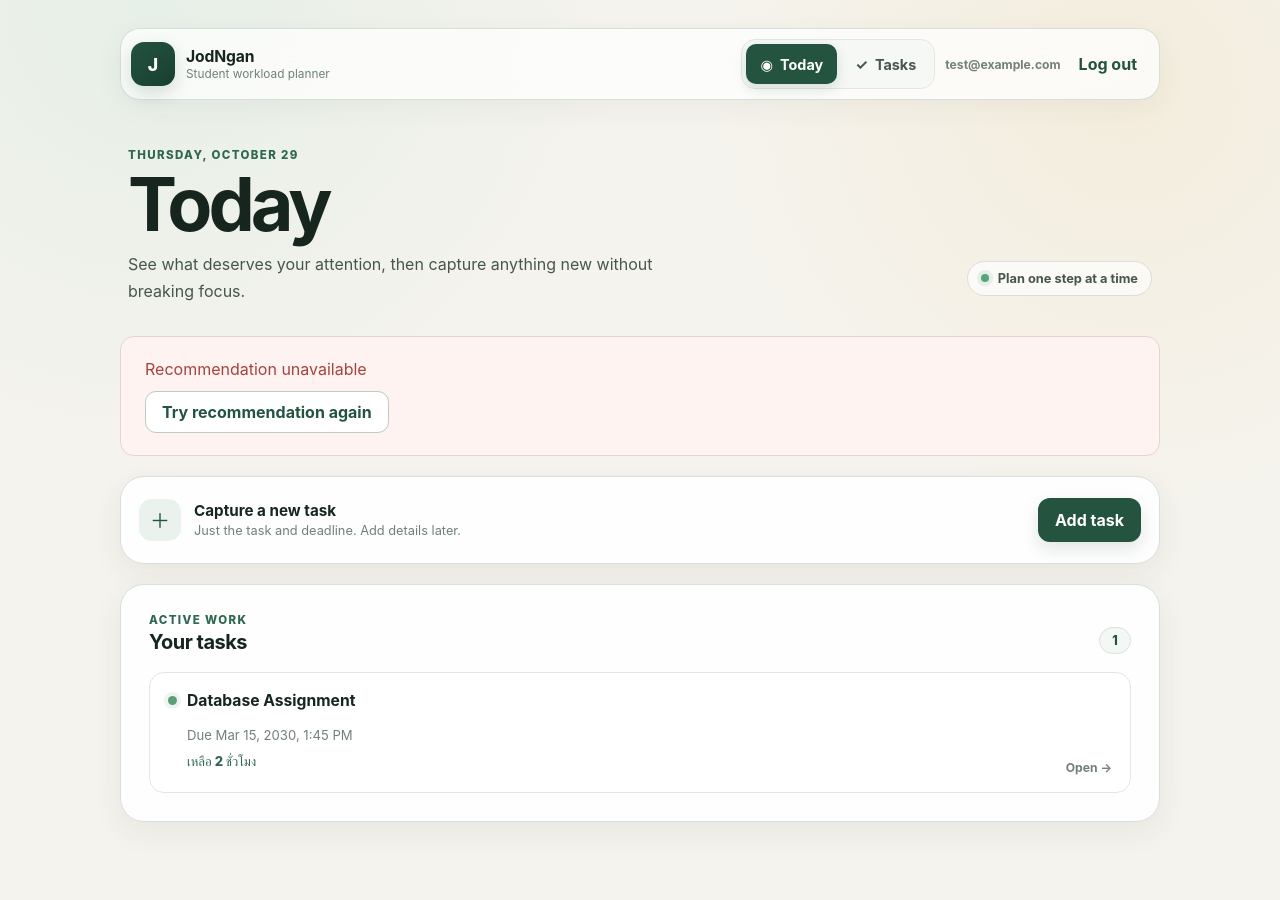
single-user Today flow › shows a recommendation error and recovers without blocking Quick Add
Expected: the text "Recommendation unavailable" is shown, [145, 359, 367, 379]
Expected: the button "Add task" is shown, [1038, 498, 1141, 542]
Click the button "Try recommendation again".
click(267, 412)  # box [145, 391, 389, 433]
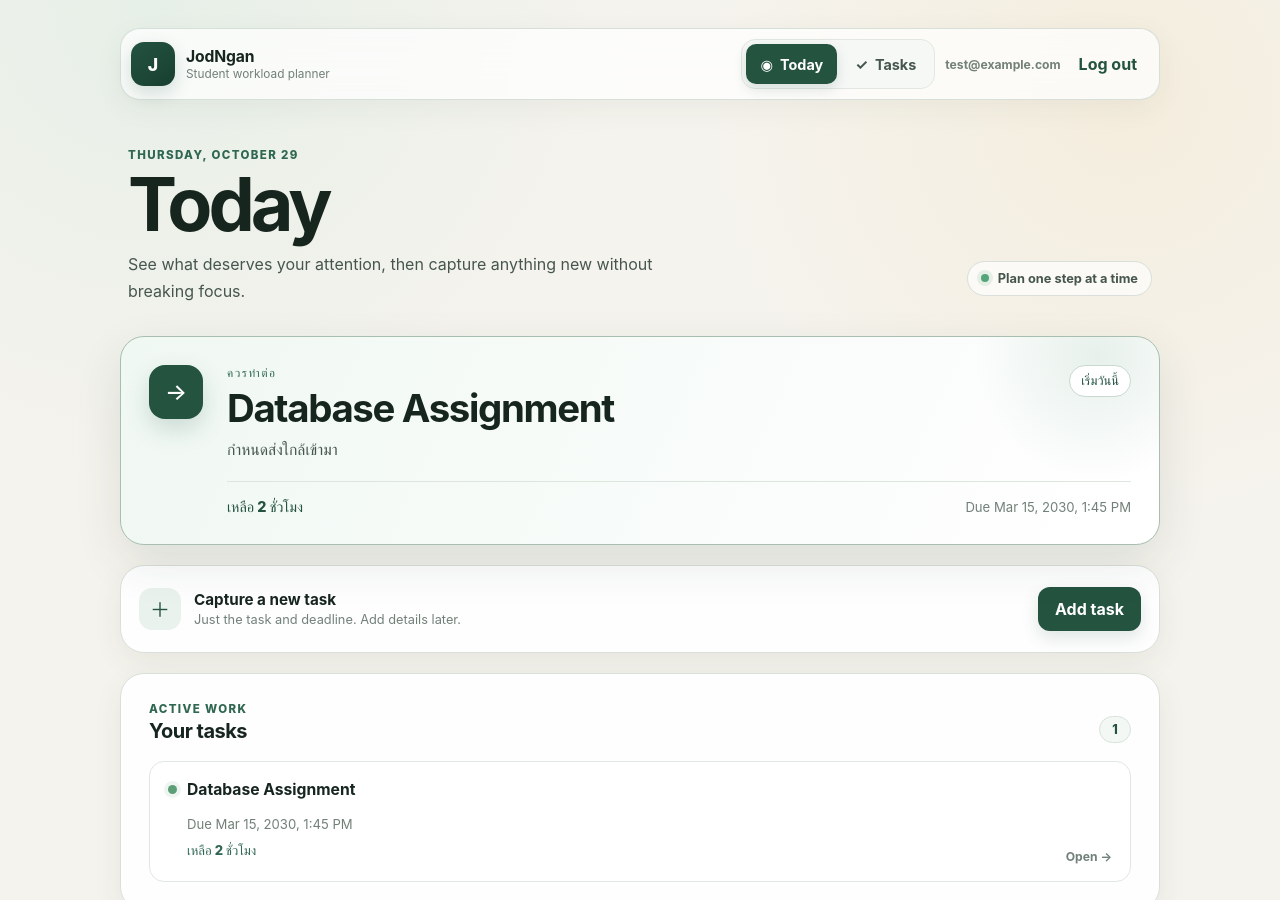
Now the text "กำหนดส่งใกล้เข้ามา" is shown, box [227, 440, 338, 459]
